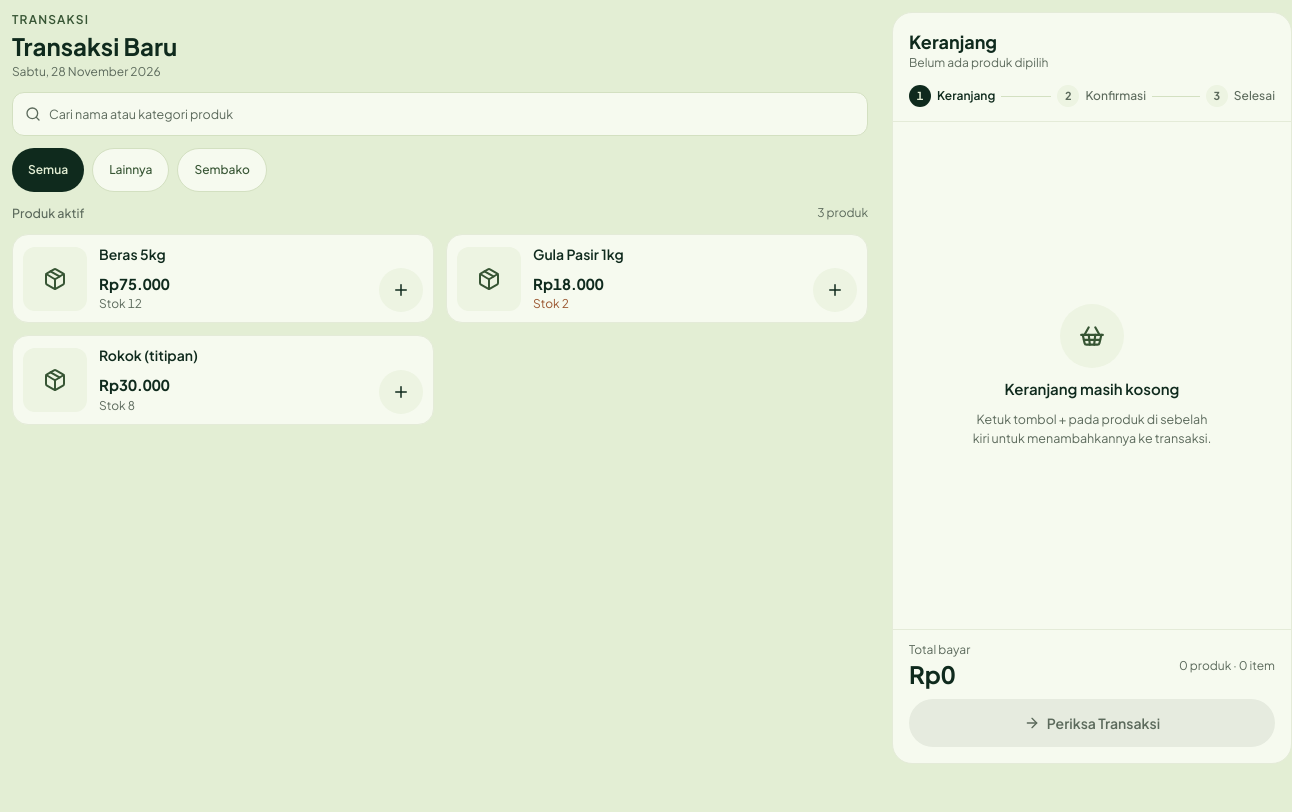
POS md+ (panel checkout) › keranjang kosong → tambah dari grid → uang pas → konfirmasi → tersimpan di panel
The width and height of the screenshot is (1292, 812).
Check: the text "Keranjang masih kosong" is shown, box [1004,378,1179,400]
Check: the button "Periksa Transaksi" is disabled, box [909,699,1275,747]
# Tombol + di grid (bukan stepper panel) — ambil yang pertama.
Step 1. Click the button named "Tambah Beras 5kg" → (401, 290), box [379,268,423,312]
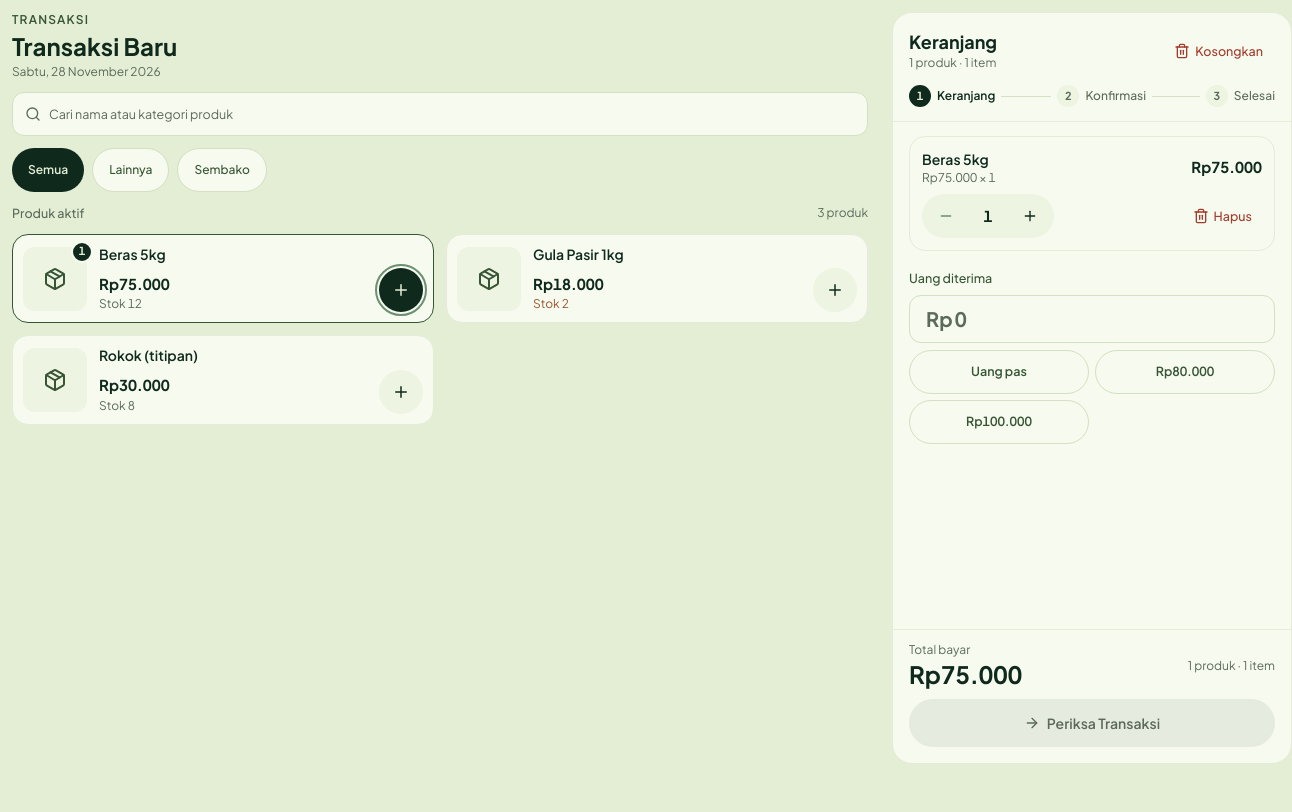
Check: the text "Rp75.000 × 1" is shown, box [922,170,996,185]
Step 2. Click the button "Uang pas" → (999, 372), box [909,350,1089,394]
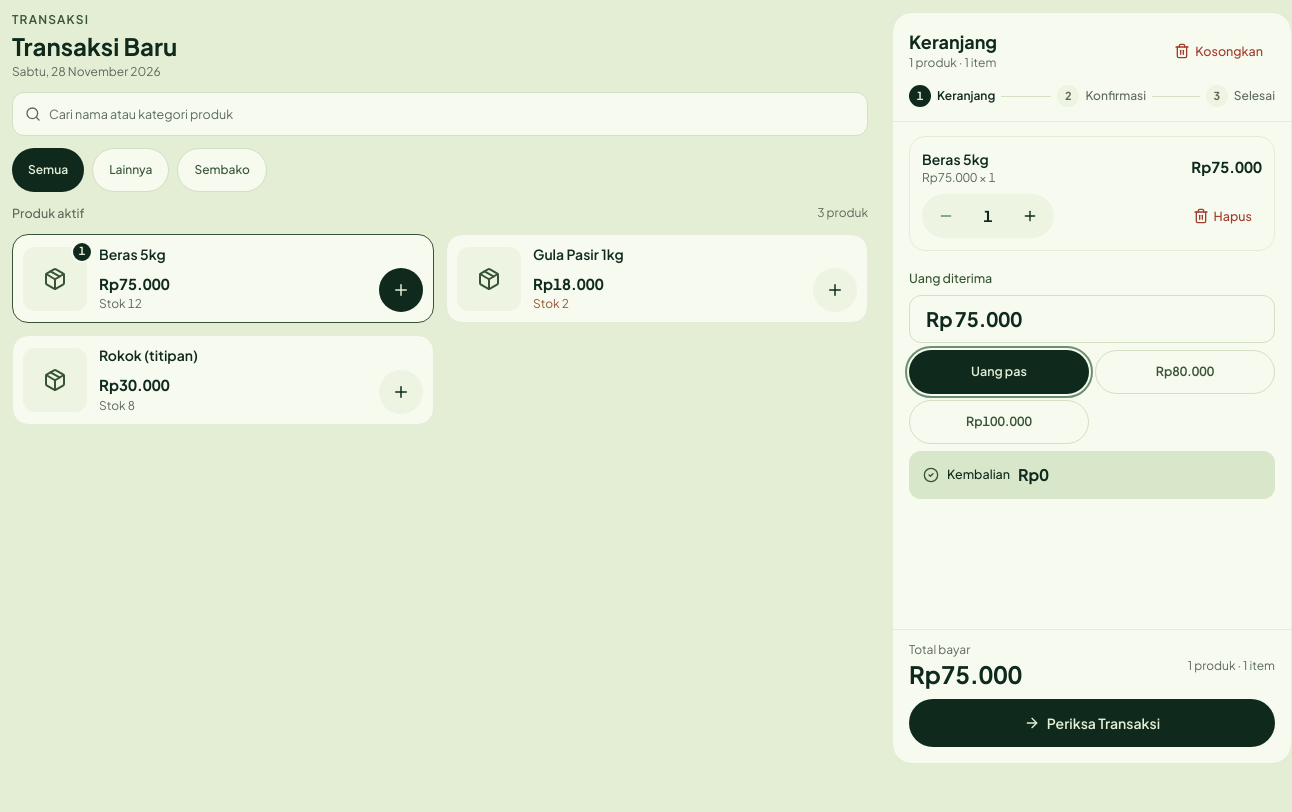
Check: the text "Kembalian" is shown, box [947,465,1010,484]
Step 3. Click the button "Periksa Transaksi" → (1092, 723), box [909,699,1275,747]
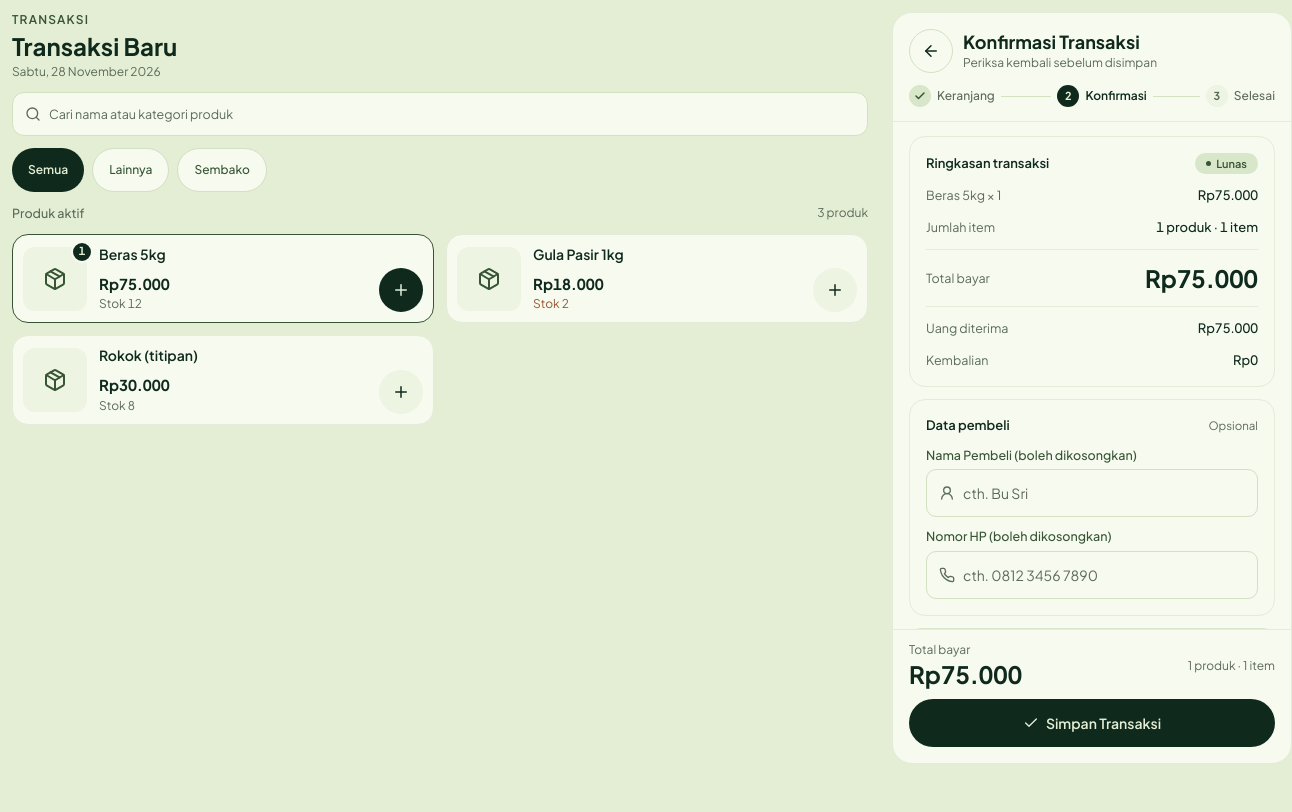
Check: the heading "Transaksi Baru" is shown, box [12,31,177,61]
Check: the heading "Konfirmasi Transaksi" is shown, box [963,30,1140,53]
Check: the text "Lunas" is shown, box [1216,158,1247,169]
Step 4. Click the button "Simpan Transaksi" → (1092, 723), box [909,699,1275,747]
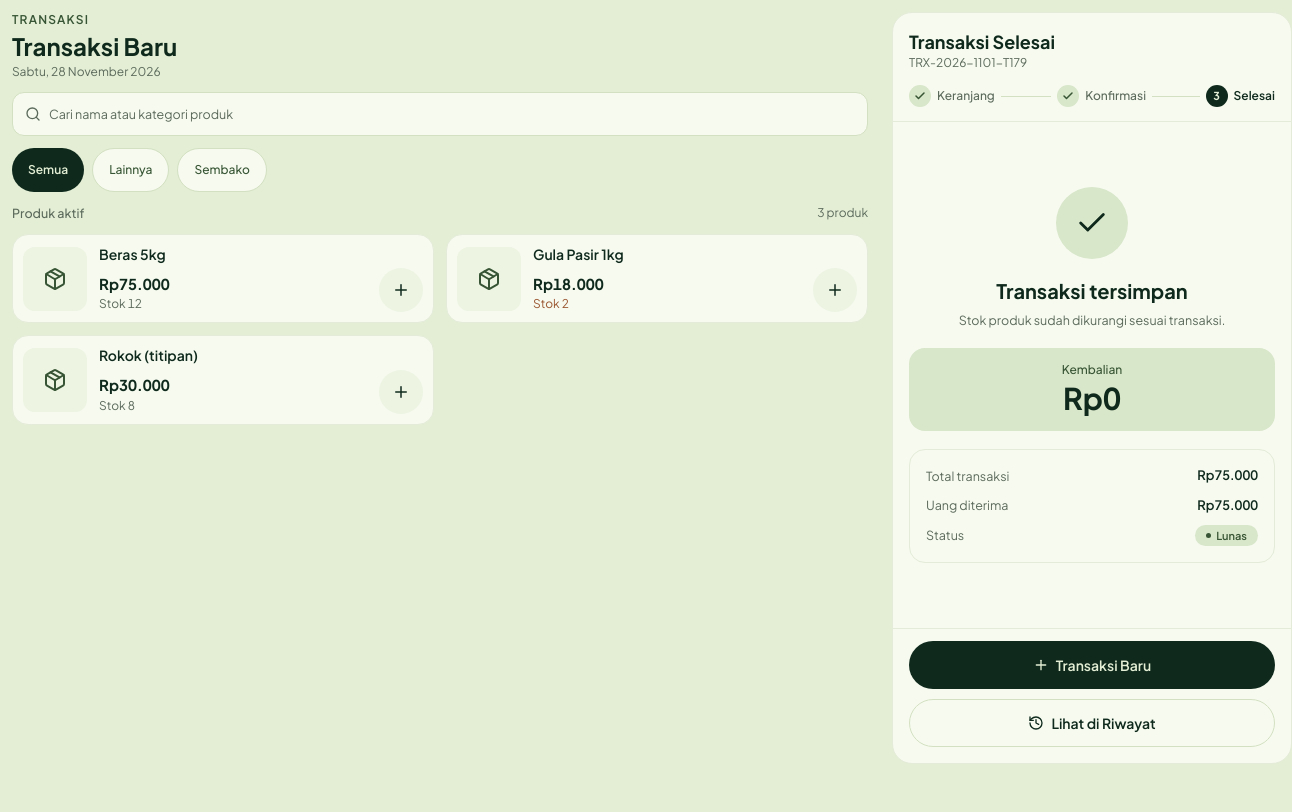
Check: the heading "Transaksi tersimpan" is shown, box [996,277,1188,305]
Check: the button "Lihat di Riwayat" is shown, box [909,699,1275,747]
Step 5. Click the button "Transaksi Baru" → (1092, 665), box [909,641,1275,689]
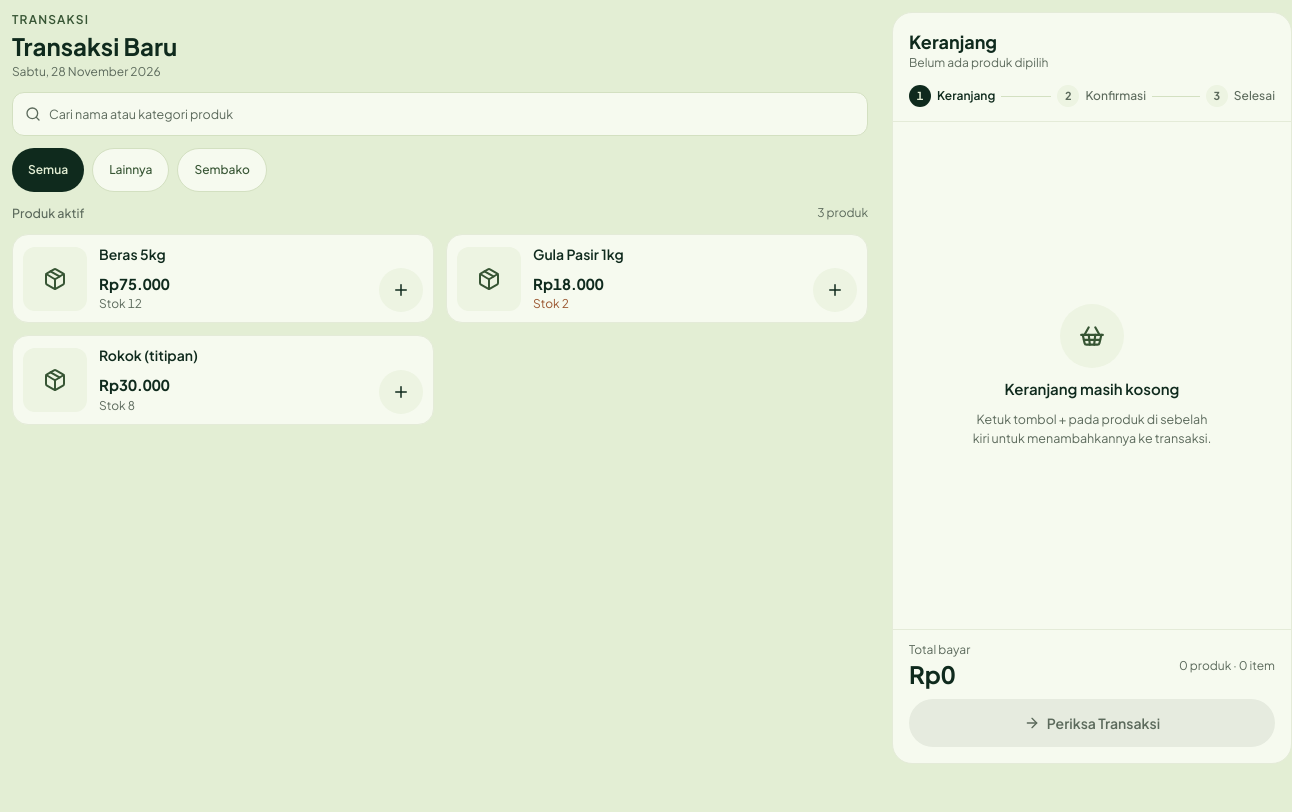
Check: the text "Keranjang masih kosong" is shown, box [1004,378,1179,400]
